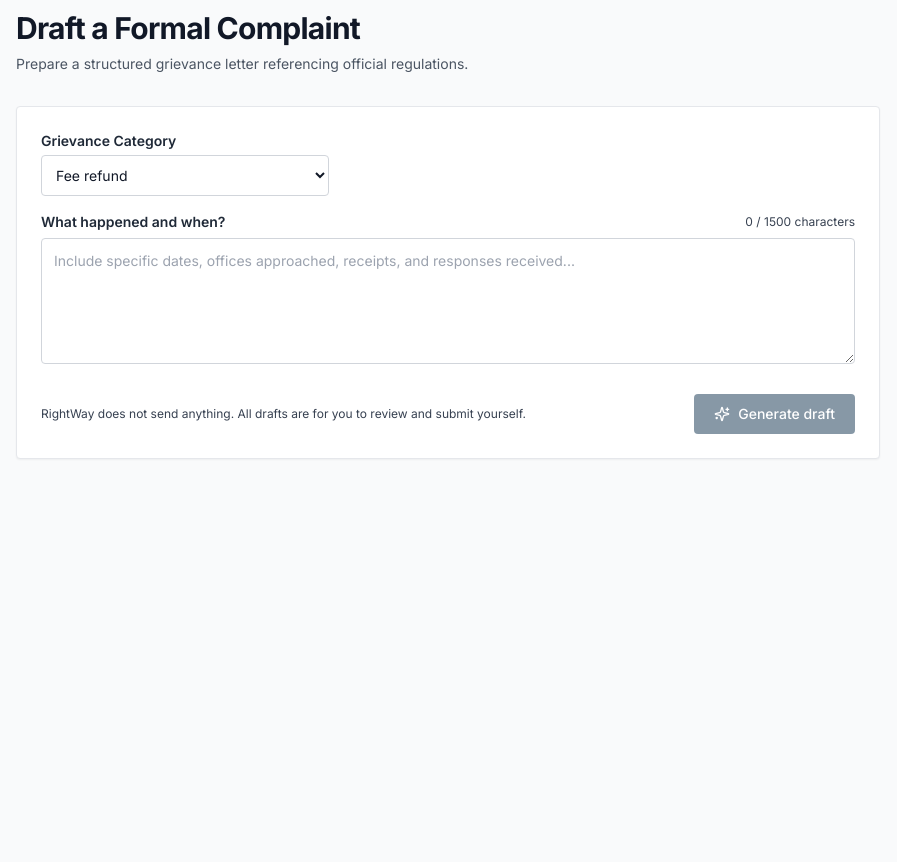
Step 3: Draft Page › shows template banner when ai_used is false
Step 1. Replace the text in the text box labelled "What happened and when?" with "Problem details" → (448, 301), box [41, 238, 855, 364]
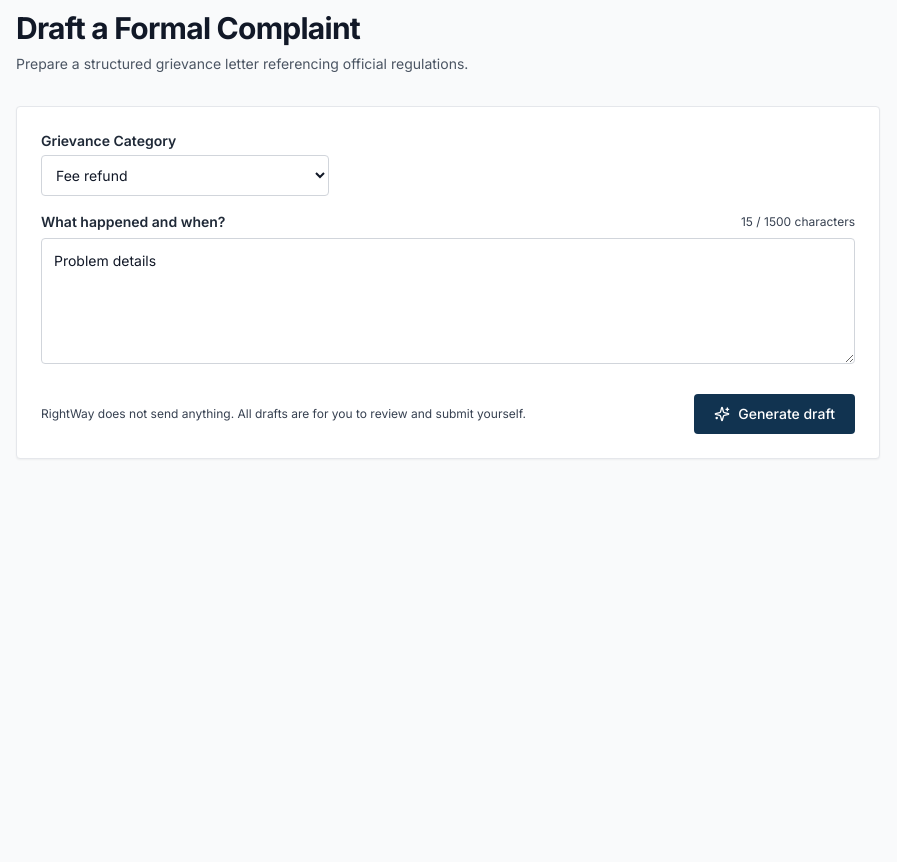
Step 2. Click the button "Generate draft" → (775, 414), box [694, 394, 855, 434]
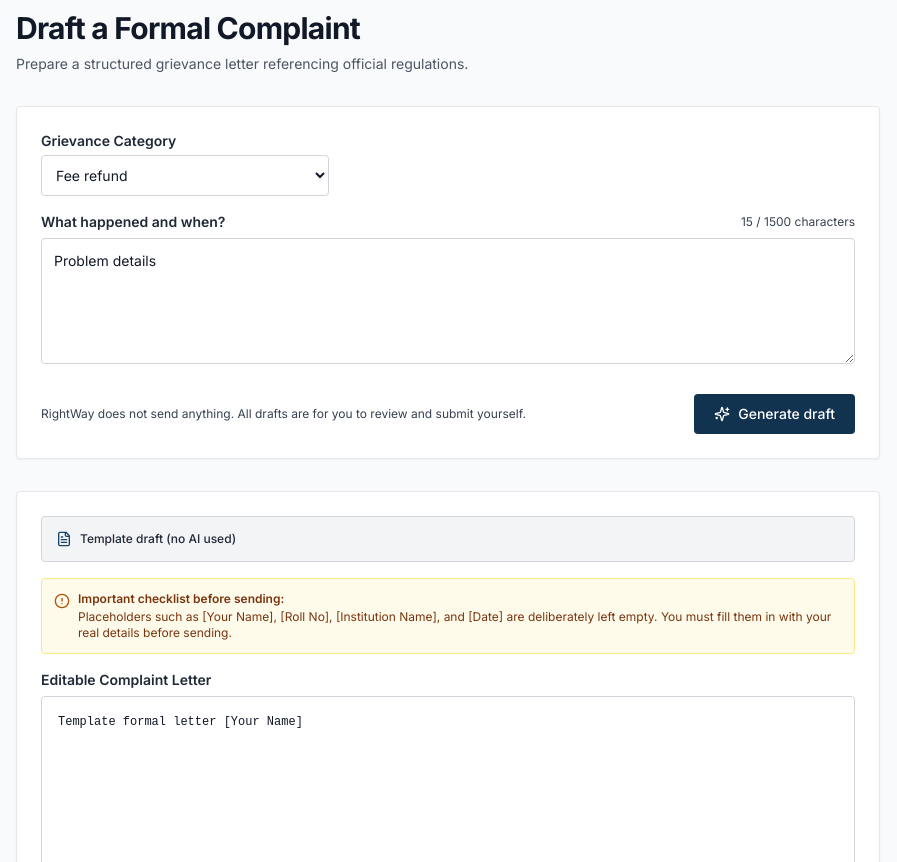
Check: the text "Template draft (no AI used)" is shown, box [80, 531, 236, 547]
